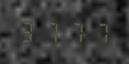seven: (41, 19, 63, 43), (64, 20, 86, 44), (87, 20, 109, 44)
three: (18, 19, 40, 43)
